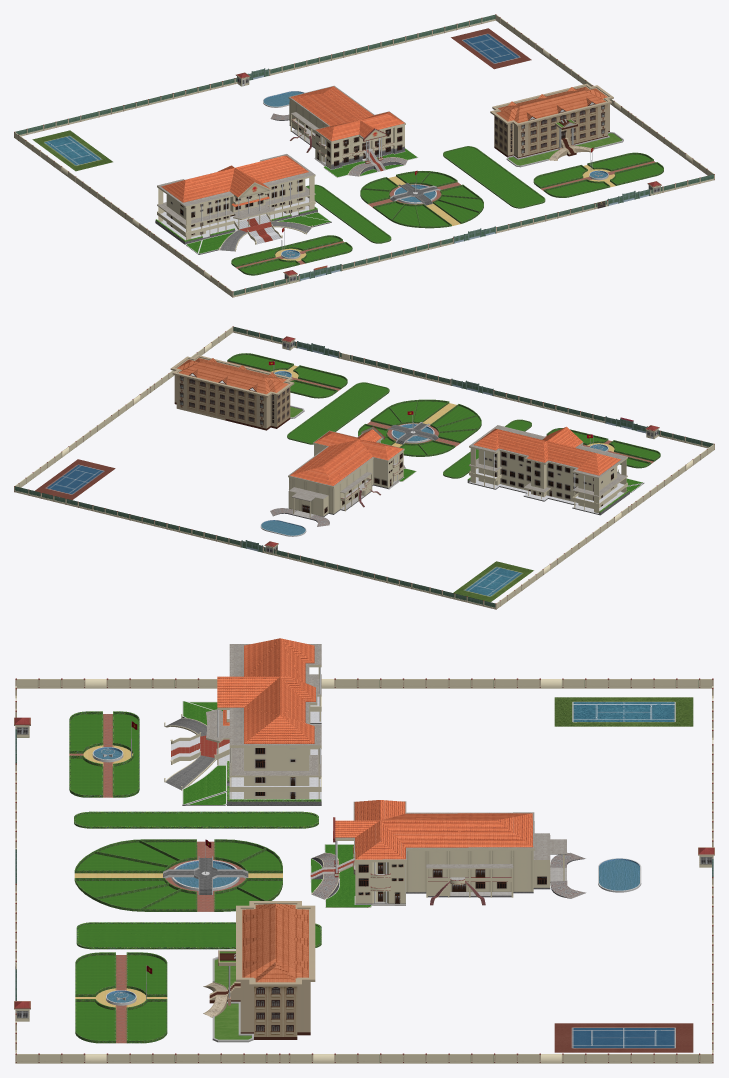
The model's file is toankhu.glb.
3 views of the same model, one above another, from view 1: azimuth 30°, elevation 25°; view 2: azimuth 150°, elevation 25°; view 3: azimuth 270°, elevation 25° (orthographic). The views are drawn at different scales.
Visible parts, largest first — view 1: BH017_UBNDtinhBinhPhuoc, BH017_UBNDtinhBinhPhuoc_hangrao, BPH093_HoitruongtinhBinhPhuoc, BPH057_1, BH017_UBNDtinhBinhPhuoc_honuoc, BH017_UBNDtinhBinhPhuoc_honuoc.002, BH017_UBNDtinhBinhPhuoc_honuoc.005, BH017_UBNDtinhBinhPhuoc_honuoc.001, BH017_UBNDtinhBinhPhuoc_hangrao.001, BH017_UBNDtinhBinhPhuoc_hangrao.002, BH017_UBNDtinhBinhPhuoc_honuoc.004; view 2: BH017_UBNDtinhBinhPhuoc, BH017_UBNDtinhBinhPhuoc_hangrao, BPH093_HoitruongtinhBinhPhuoc, BPH057_1, BH017_UBNDtinhBinhPhuoc_honuoc, BH017_UBNDtinhBinhPhuoc_honuoc.005, BH017_UBNDtinhBinhPhuoc_honuoc.002, BH017_UBNDtinhBinhPhuoc_hangrao.001, BH017_UBNDtinhBinhPhuoc_hangrao.002, BH017_UBNDtinhBinhPhuoc_honuoc.001, BH017_UBNDtinhBinhPhuoc_honuoc.004, BH017_UBNDtinhBinhPhuoc_honuoc.003; view 3: BPH093_HoitruongtinhBinhPhuoc, BH017_UBNDtinhBinhPhuoc, BH017_UBNDtinhBinhPhuoc_hangrao, BH017_UBNDtinhBinhPhuoc_honuoc, BPH057_1, BH017_UBNDtinhBinhPhuoc_honuoc.002, BH017_UBNDtinhBinhPhuoc_honuoc.001, BH017_UBNDtinhBinhPhuoc_honuoc.005, BH017_UBNDtinhBinhPhuoc_honuoc.004, BH017_UBNDtinhBinhPhuoc_hangrao.001, BH017_UBNDtinhBinhPhuoc_hangrao.002, BH017_UBNDtinhBinhPhuoc_honuoc.003.
Boxes of the visible parts, bbox=[...] form: BH017_UBNDtinhBinhPhuoc: bbox=[155, 154, 331, 254]; BH017_UBNDtinhBinhPhuoc_hangrao: bbox=[14, 14, 714, 297]; BPH093_HoitruongtinhBinhPhuoc: bbox=[270, 85, 418, 177]; BPH057_1: bbox=[490, 83, 623, 167]; BH017_UBNDtinhBinhPhuoc_honuoc: bbox=[360, 170, 483, 228]; BH017_UBNDtinhBinhPhuoc_honuoc.002: bbox=[533, 147, 663, 197]; BH017_UBNDtinhBinhPhuoc_honuoc.005: bbox=[443, 146, 545, 208]; BH017_UBNDtinhBinhPhuoc_honuoc.001: bbox=[231, 227, 352, 275]; BH017_UBNDtinhBinhPhuoc_hangrao.001: bbox=[32, 130, 112, 171]; BH017_UBNDtinhBinhPhuoc_hangrao.002: bbox=[451, 28, 531, 69]; BH017_UBNDtinhBinhPhuoc_honuoc.004: bbox=[306, 184, 391, 243]; BH017_UBNDtinhBinhPhuoc: bbox=[467, 425, 644, 515]; BH017_UBNDtinhBinhPhuoc_hangrao: bbox=[14, 326, 714, 609]; BPH093_HoitruongtinhBinhPhuoc: bbox=[270, 426, 416, 526]; BPH057_1: bbox=[170, 355, 304, 430]; BH017_UBNDtinhBinhPhuoc_honuoc: bbox=[358, 399, 481, 456]; BH017_UBNDtinhBinhPhuoc_honuoc.005: bbox=[287, 382, 389, 444]; BH017_UBNDtinhBinhPhuoc_honuoc.002: bbox=[227, 353, 347, 398]; BH017_UBNDtinhBinhPhuoc_hangrao.001: bbox=[453, 561, 533, 602]; BH017_UBNDtinhBinhPhuoc_hangrao.002: bbox=[35, 459, 115, 500]; BH017_UBNDtinhBinhPhuoc_honuoc.001: bbox=[545, 428, 660, 468]; BH017_UBNDtinhBinhPhuoc_honuoc.004: bbox=[443, 419, 531, 478]; BH017_UBNDtinhBinhPhuoc_honuoc.003: bbox=[260, 520, 306, 536]; BPH093_HoitruongtinhBinhPhuoc: bbox=[310, 800, 586, 907]; BH017_UBNDtinhBinhPhuoc: bbox=[164, 638, 321, 805]; BH017_UBNDtinhBinhPhuoc_hangrao: bbox=[14, 678, 714, 1063]; BH017_UBNDtinhBinhPhuoc_honuoc: bbox=[74, 839, 282, 911]; BPH057_1: bbox=[203, 901, 315, 1042]; BH017_UBNDtinhBinhPhuoc_honuoc.002: bbox=[75, 952, 167, 1043]; BH017_UBNDtinhBinhPhuoc_honuoc.001: bbox=[69, 711, 139, 797]; BH017_UBNDtinhBinhPhuoc_honuoc.005: bbox=[76, 922, 321, 949]; BH017_UBNDtinhBinhPhuoc_honuoc.004: bbox=[74, 811, 318, 828]; BH017_UBNDtinhBinhPhuoc_hangrao.001: bbox=[554, 697, 693, 726]; BH017_UBNDtinhBinhPhuoc_hangrao.002: bbox=[554, 1023, 693, 1052]; BH017_UBNDtinhBinhPhuoc_honuoc.003: bbox=[598, 858, 641, 892].
Bounding box in the file's own units: 246 × 24.74 × 194.
7 materials, 6 textured.
